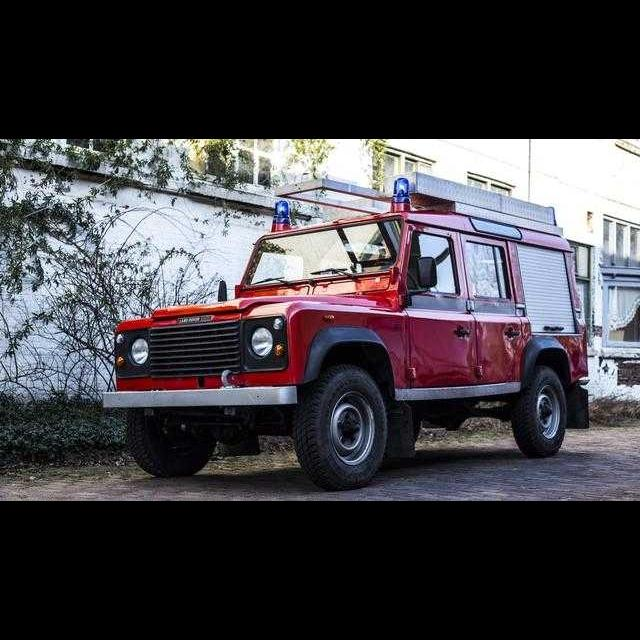emergency: (100, 174, 592, 488)
